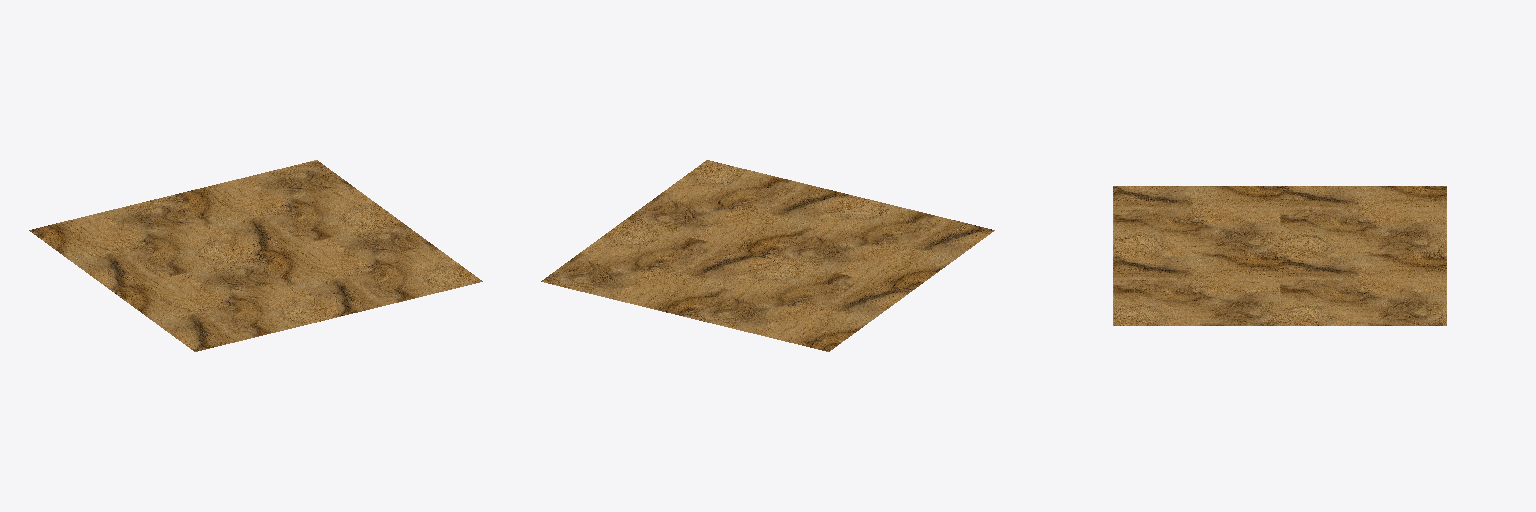
The picture shows the model from 3 angles: view 1: azimuth 30°, elevation 25°; view 2: azimuth 150°, elevation 25°; view 3: azimuth 270°, elevation 25°; orthographic projection.
Parts seen in each view (by area): view 1: Plane001; view 2: Plane001; view 3: Plane001.
Part boxes in pixels (bbox=[...]): Plane001: bbox=[29, 160, 482, 351]; Plane001: bbox=[541, 160, 994, 351]; Plane001: bbox=[1113, 186, 1446, 325].
Bounding box in the file's own units: 10 × 0 × 10.
1 materials, 1 textured.